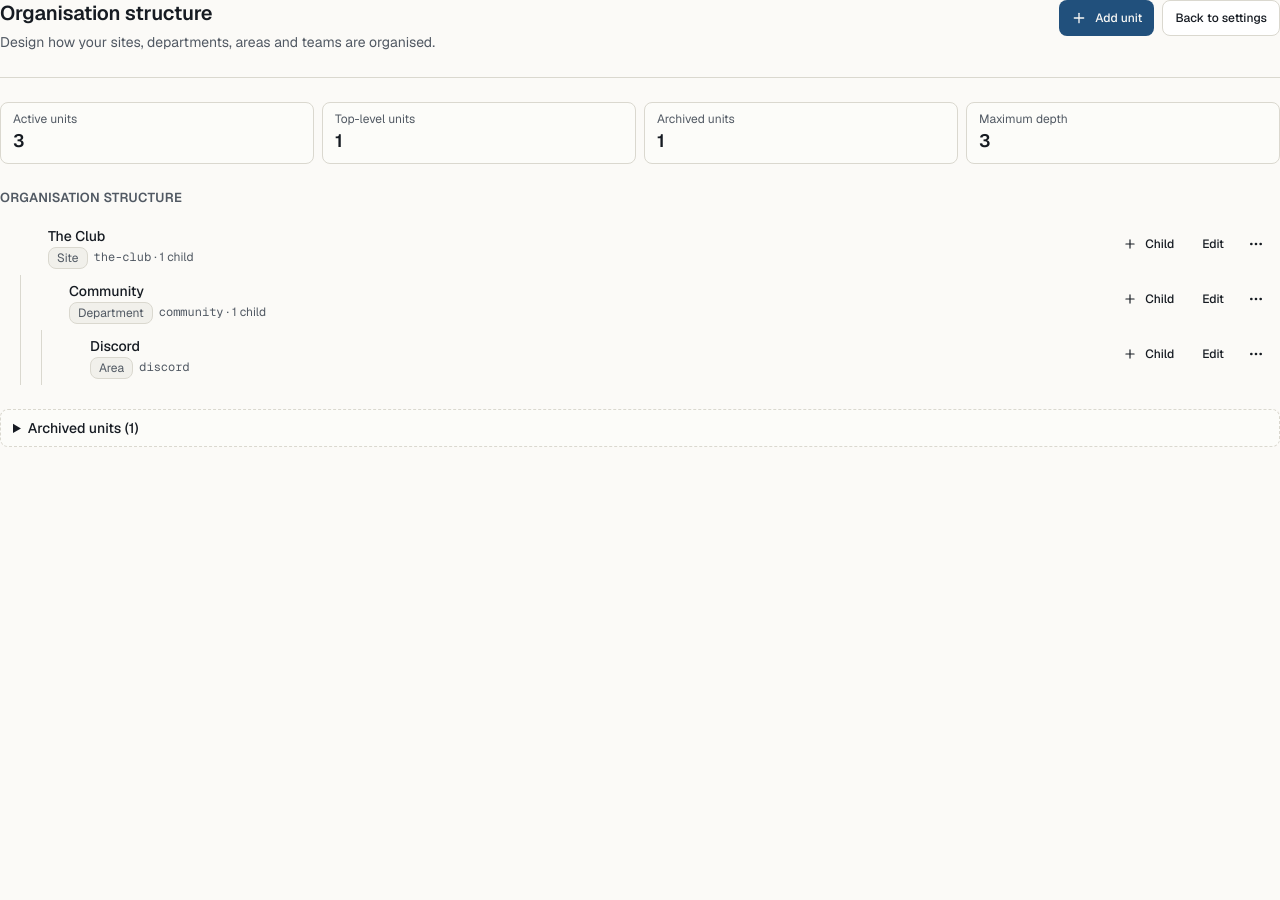
Test case: StructureWorkspace › opens Add child with the parent preselected and top-level add without a parent
This screenshot has width=1280, height=900.
Click the button with test id "org-unit-add-child-club": click(1149, 244) top-left (1111, 226), bottom-right (1186, 262)
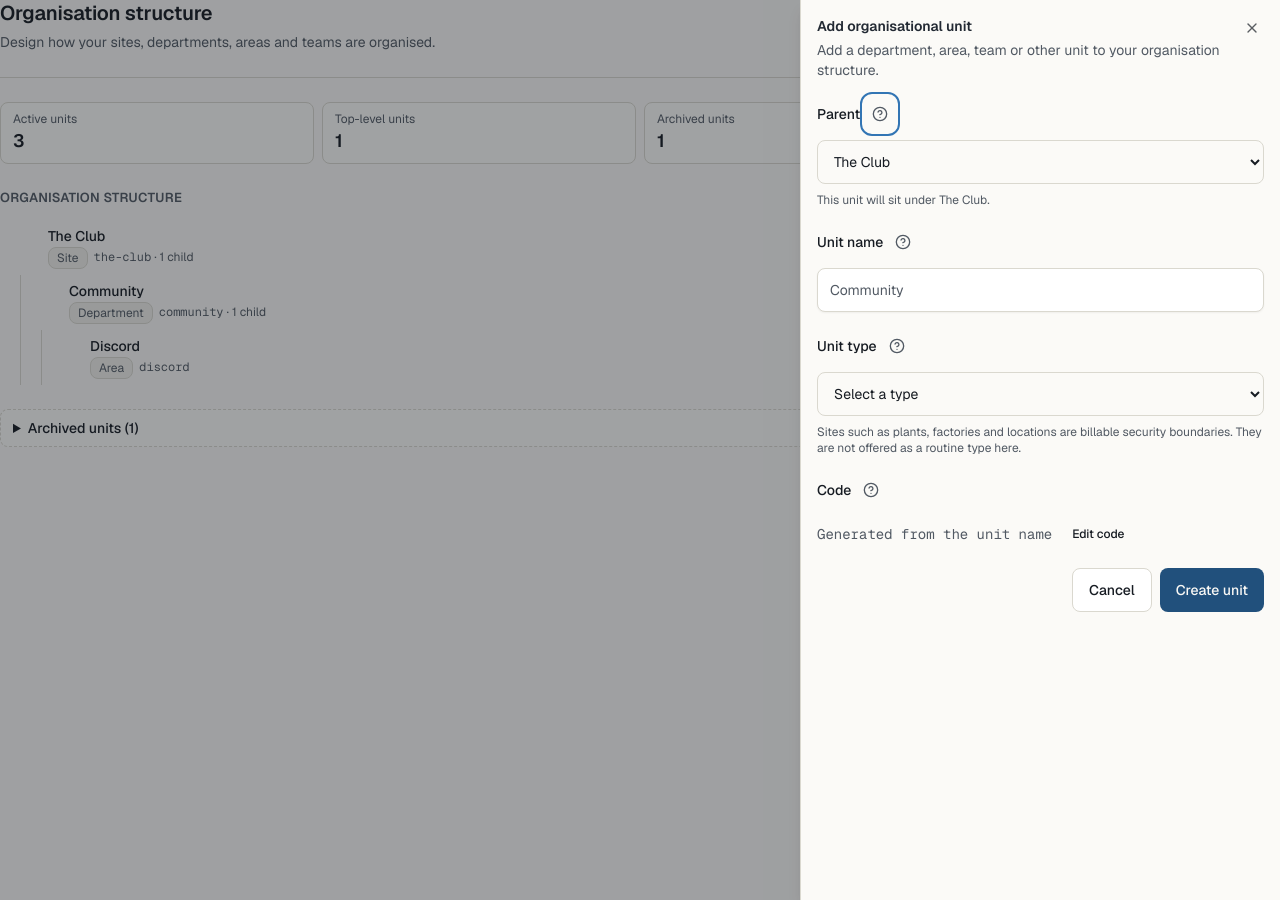
Now the dialog with test id "add-unit-drawer" is shown, box top-left (800, 0), bottom-right (1279, 899)
Now the dropdown with test id "unit-parent-select" shows "The Club", box top-left (817, 140), bottom-right (1264, 184)
Click the button "Cancel": click(1112, 590) top-left (1072, 568), bottom-right (1152, 612)
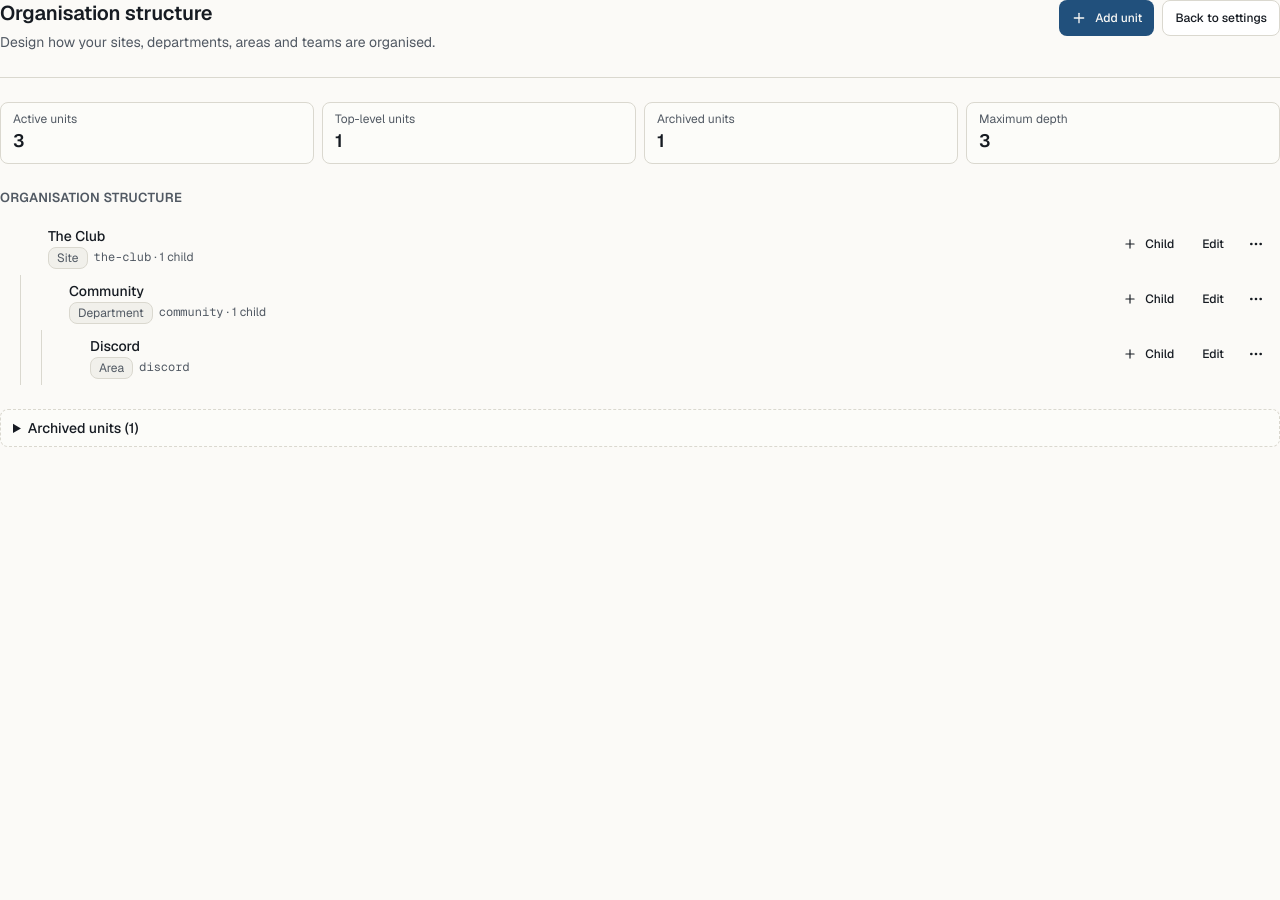
Click the button with test id "add-unit-button": click(1107, 18) top-left (1059, 0), bottom-right (1154, 36)
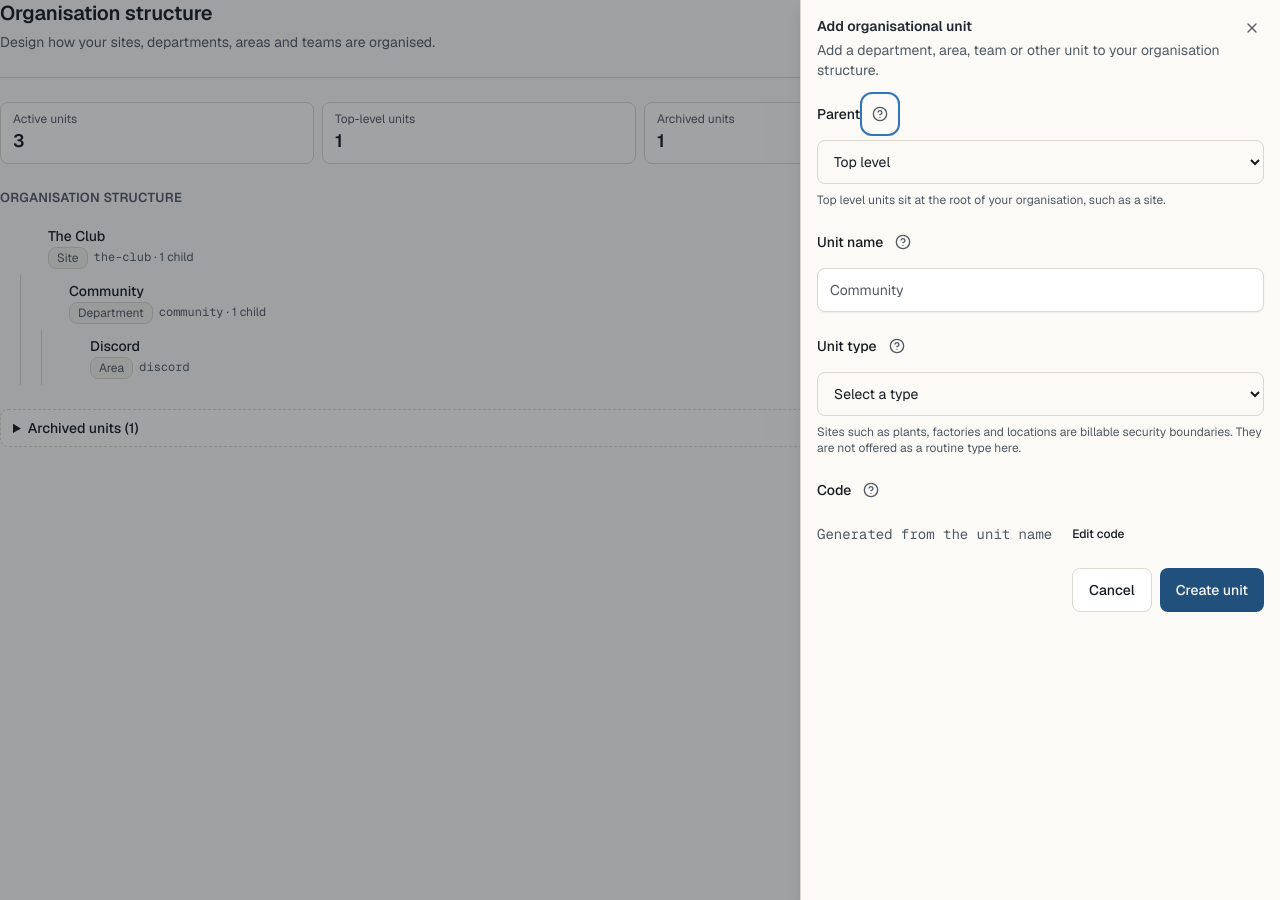
Now the dropdown with test id "unit-parent-select" shows "Top level", box top-left (817, 140), bottom-right (1264, 184)
